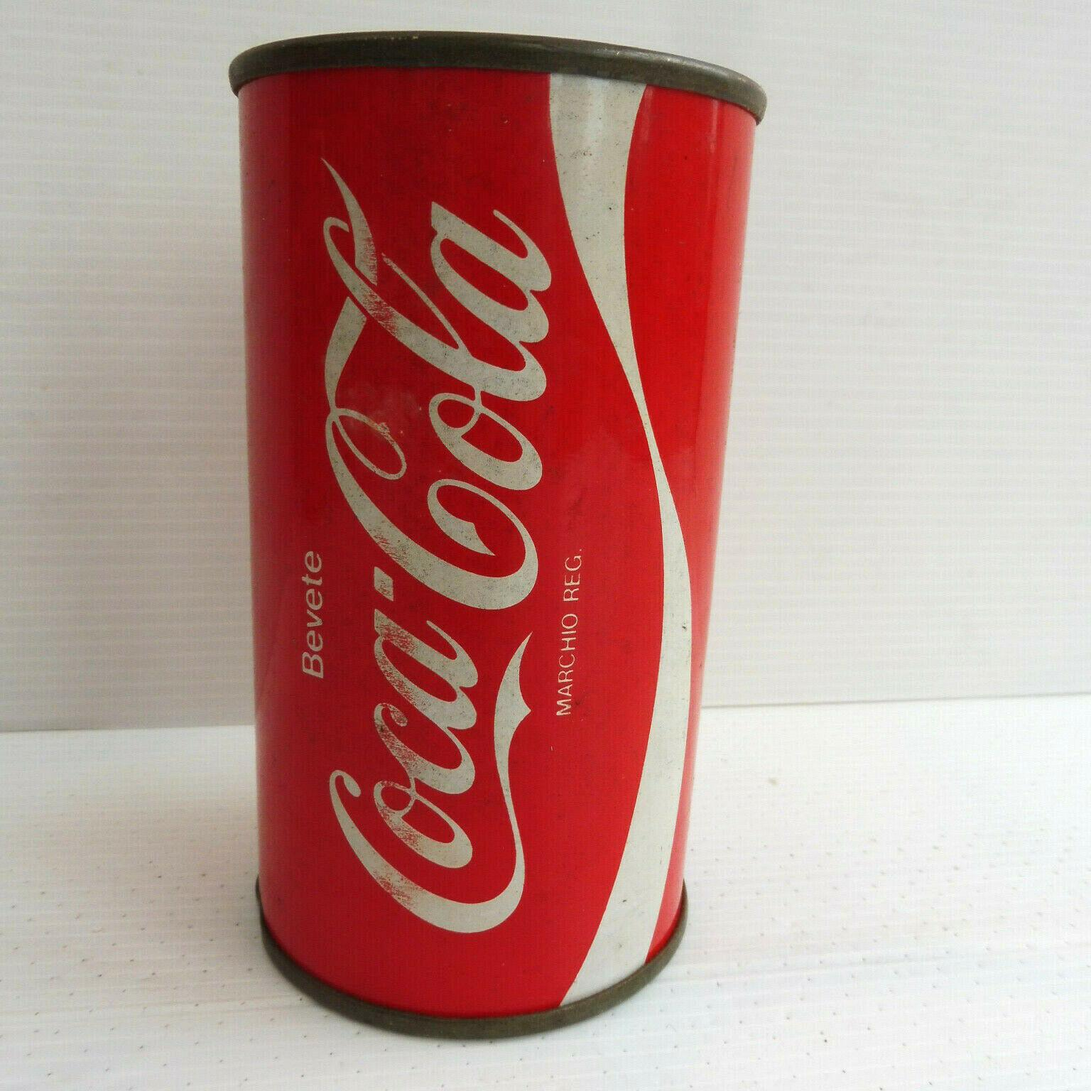metal: (231, 34, 763, 1020)
